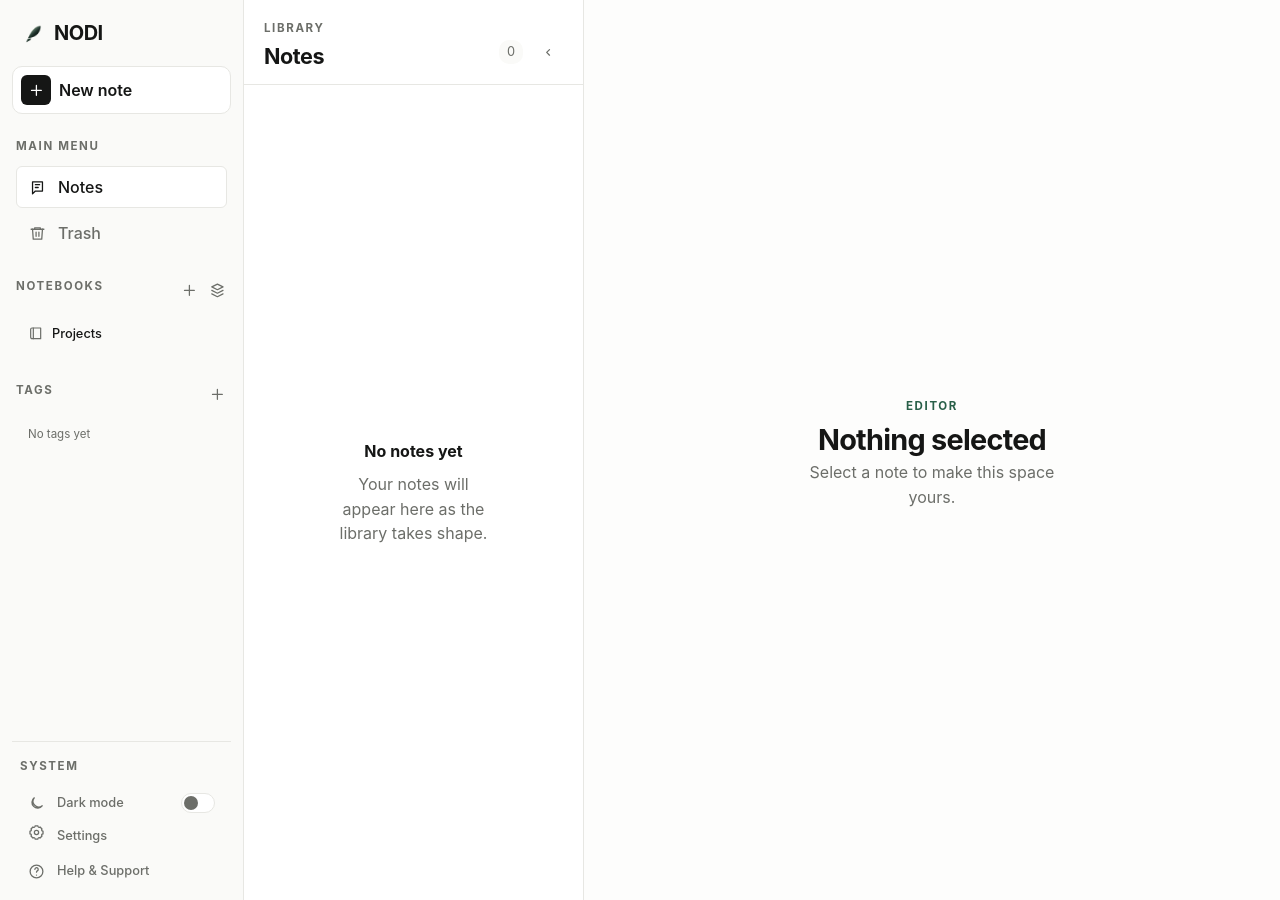
Test: NODI app › filters notes by the selected notebook
Click the button "Projects" at (70, 334), box [28,314,111,354]
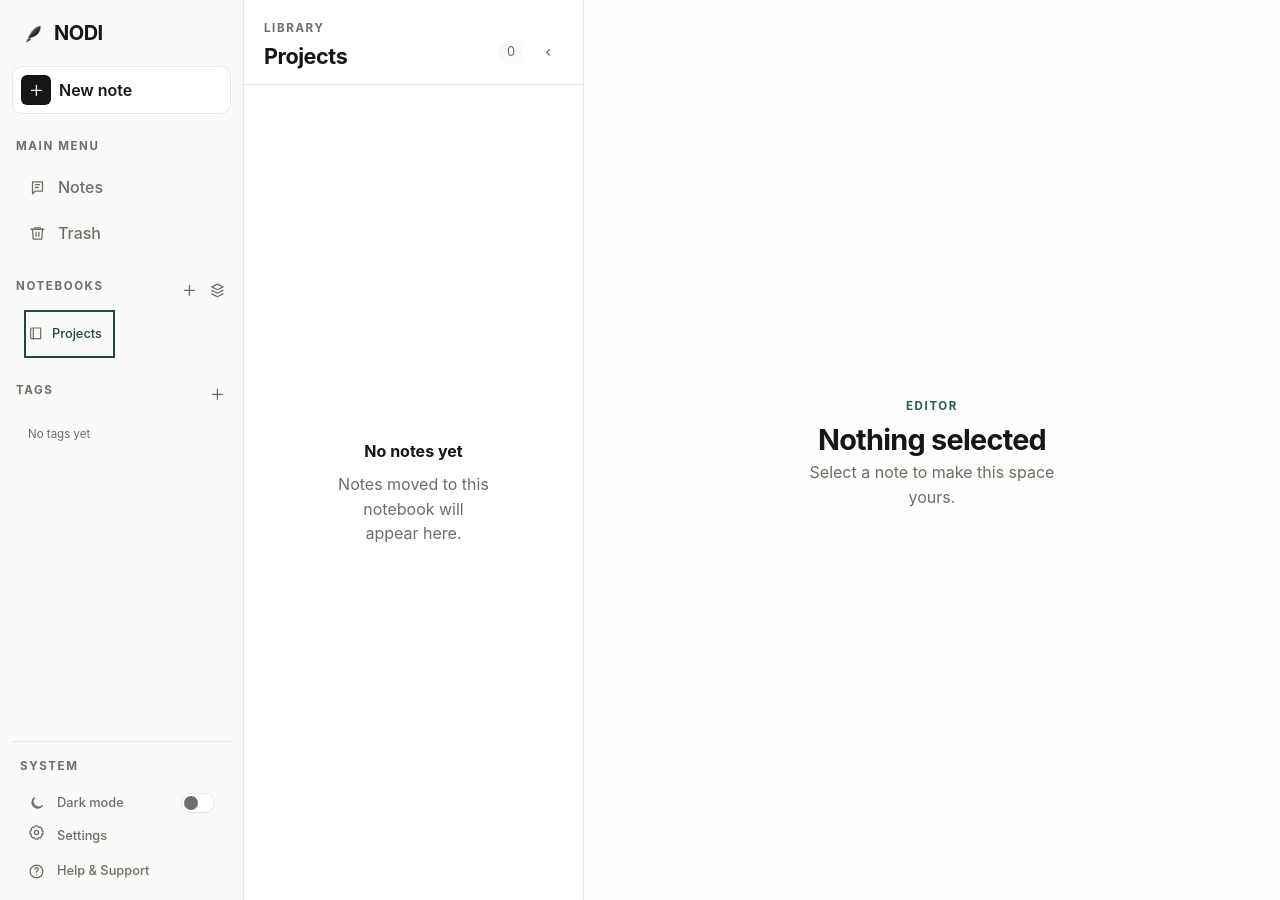
expect the element "Projects" is shown: met, box [244,0,584,899]
